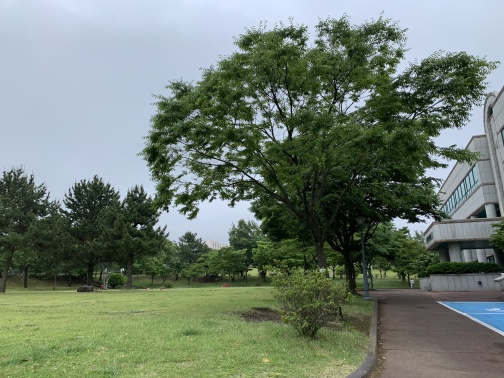Second Library: (416, 108, 504, 297)
